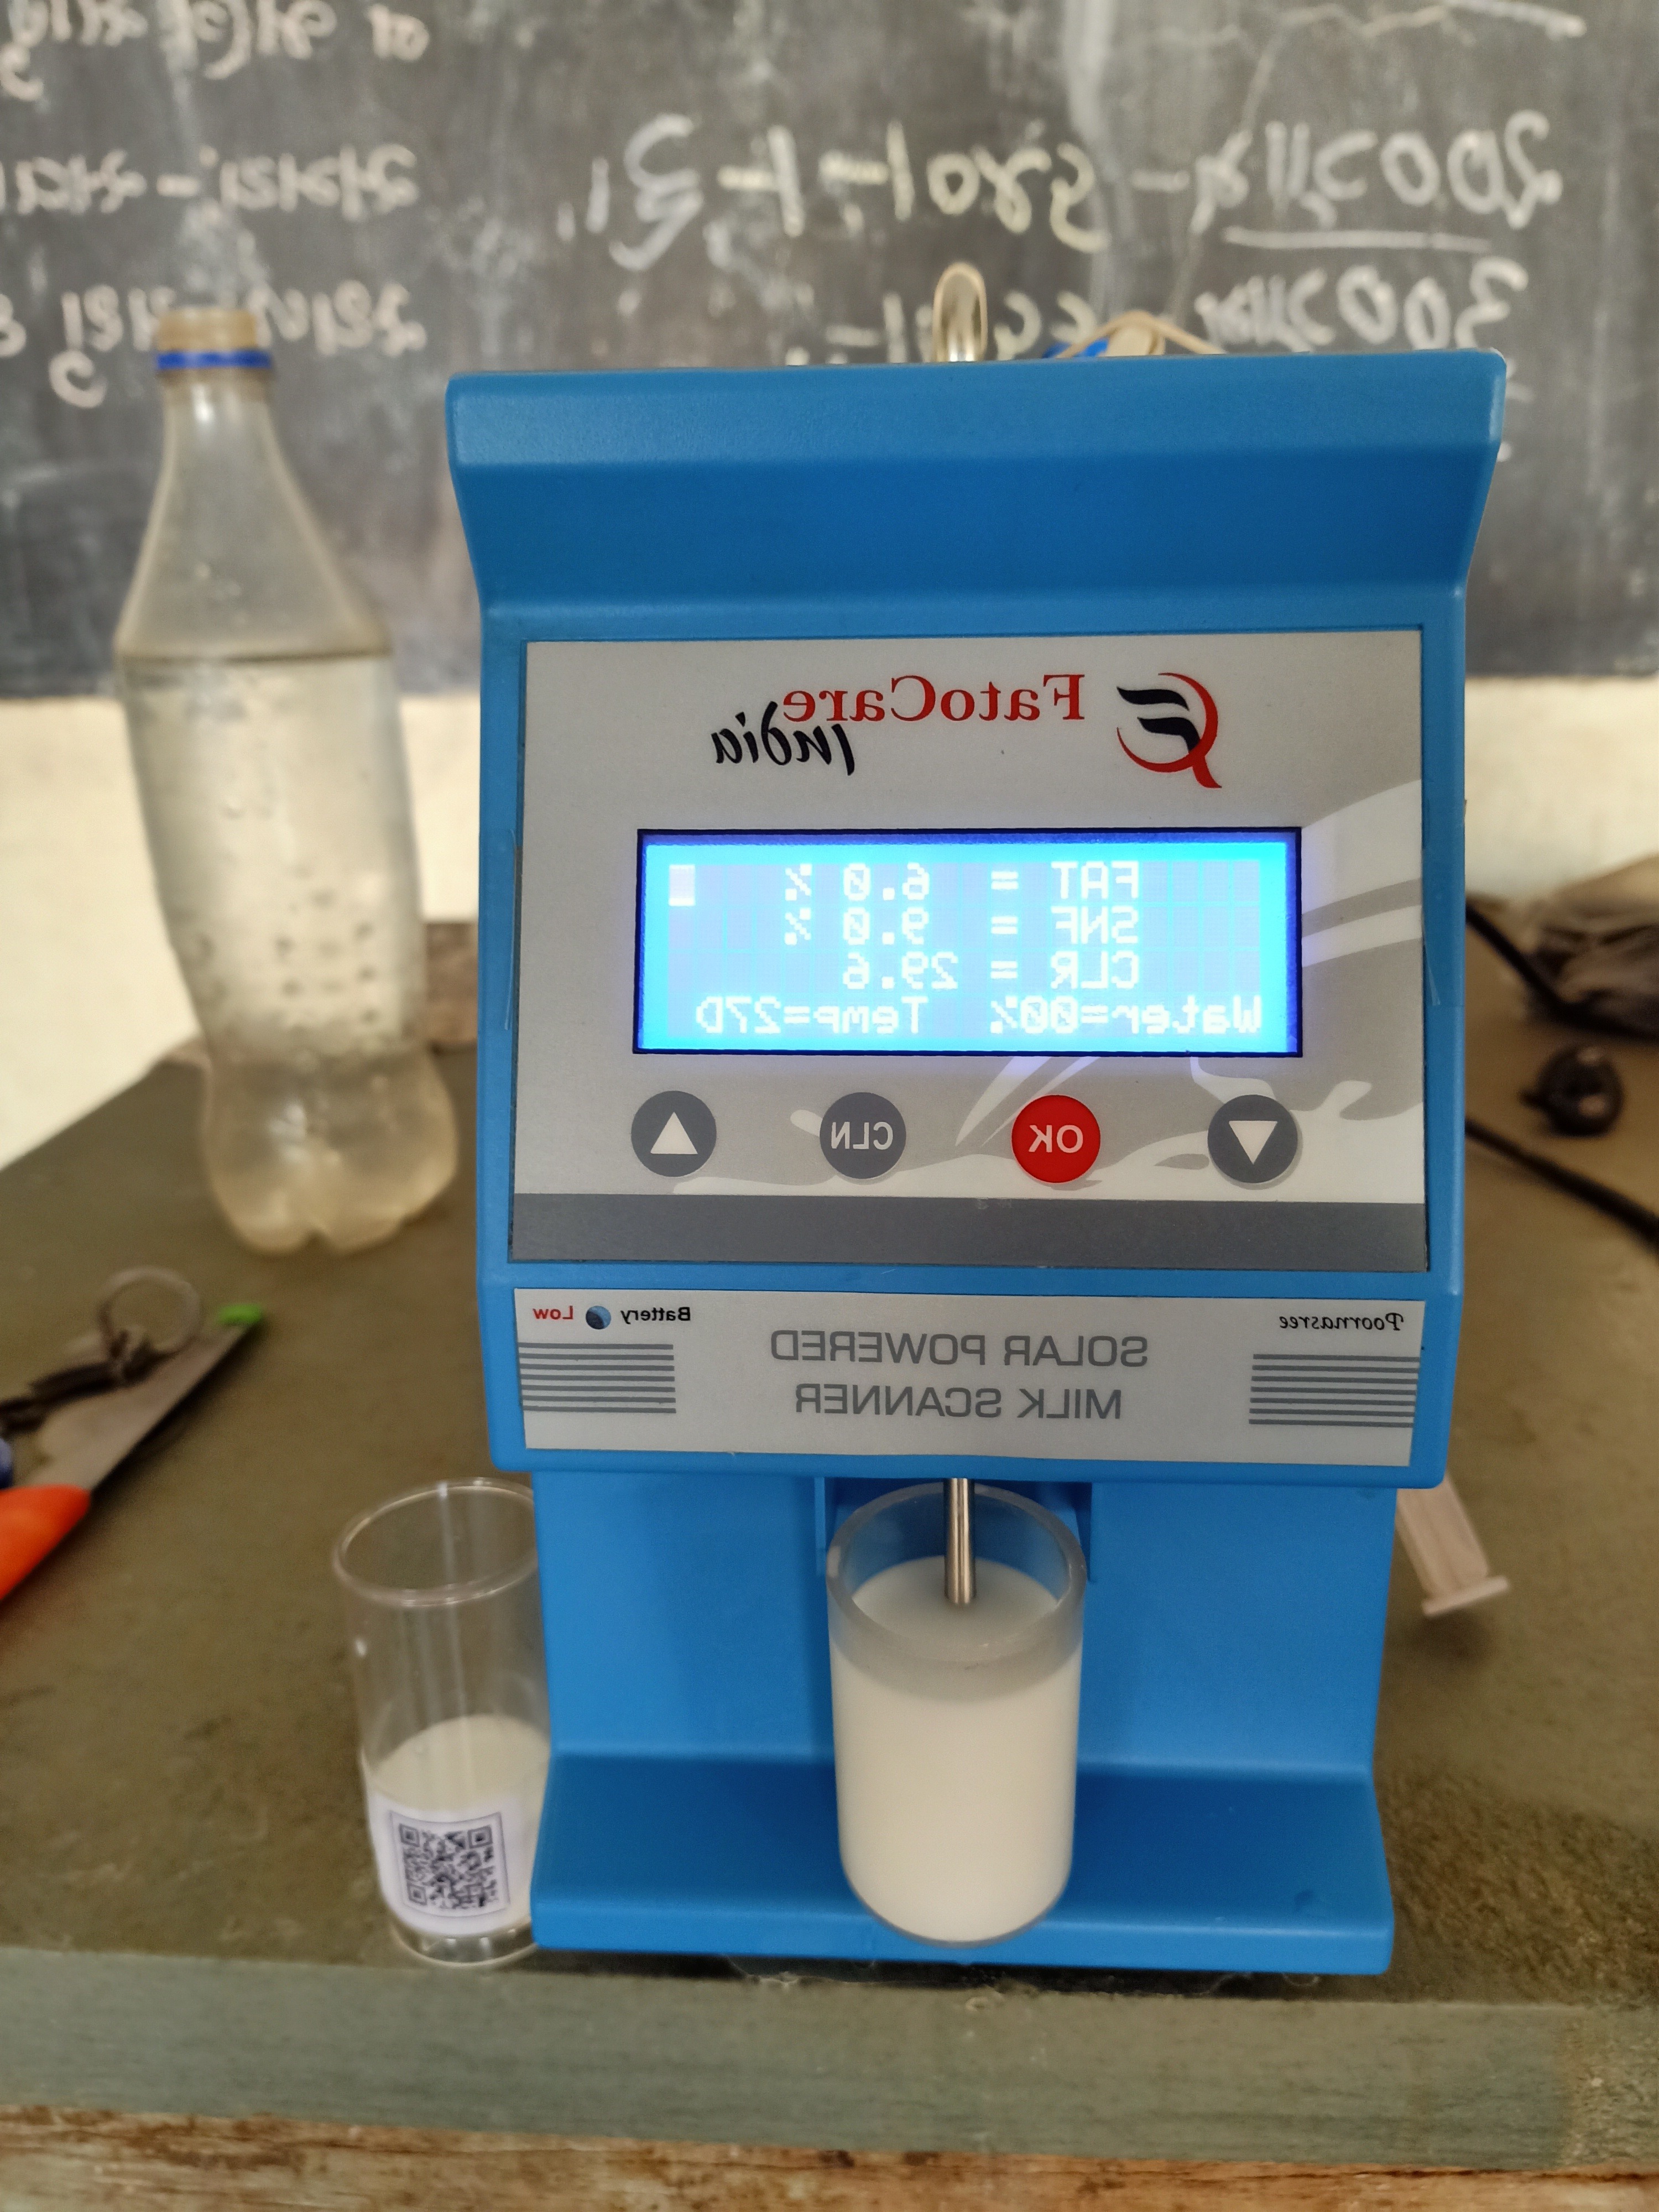lcd: (624, 801, 1326, 1099)
qr: (385, 1808, 525, 1932)
